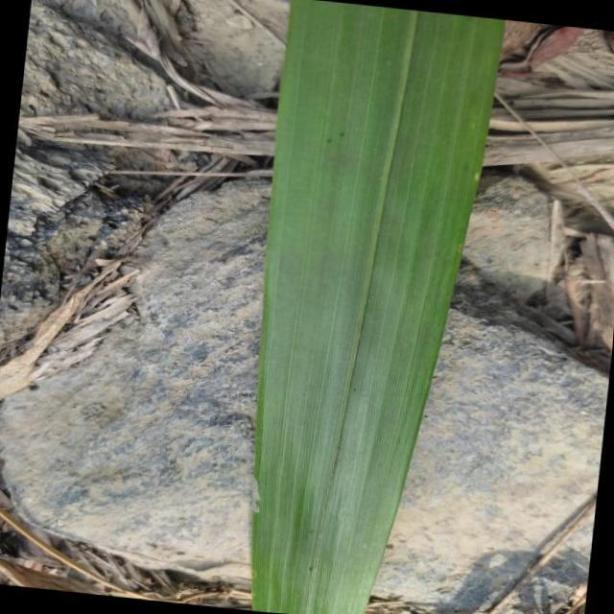Healthy: (252, 1, 503, 614)
